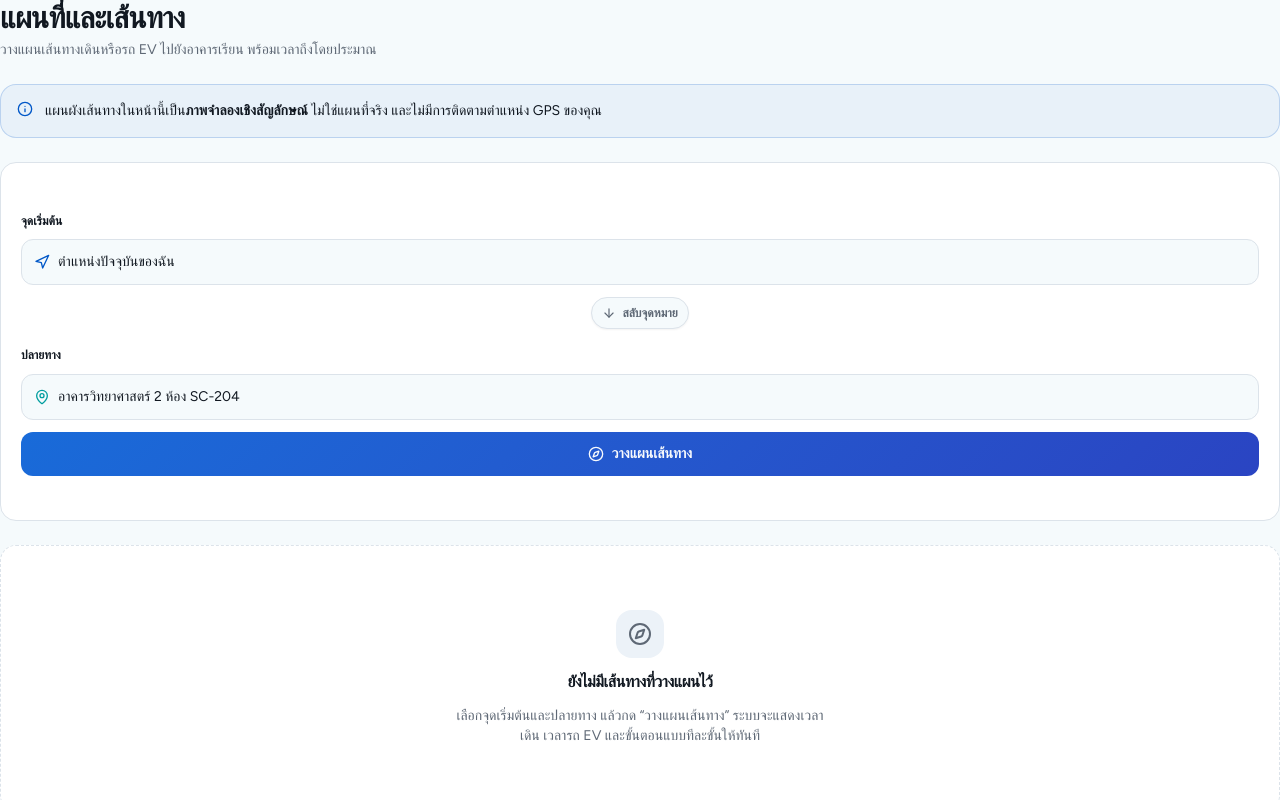
Smart Navigation › shows walking, EV, final walking and total minutes for โรงอาหารกลาง → SC-204
Replace the text in the field with test id "navigate.origin_input" with "โรงอาหารกลาง" at (652, 262), box [58,240,1246,284]
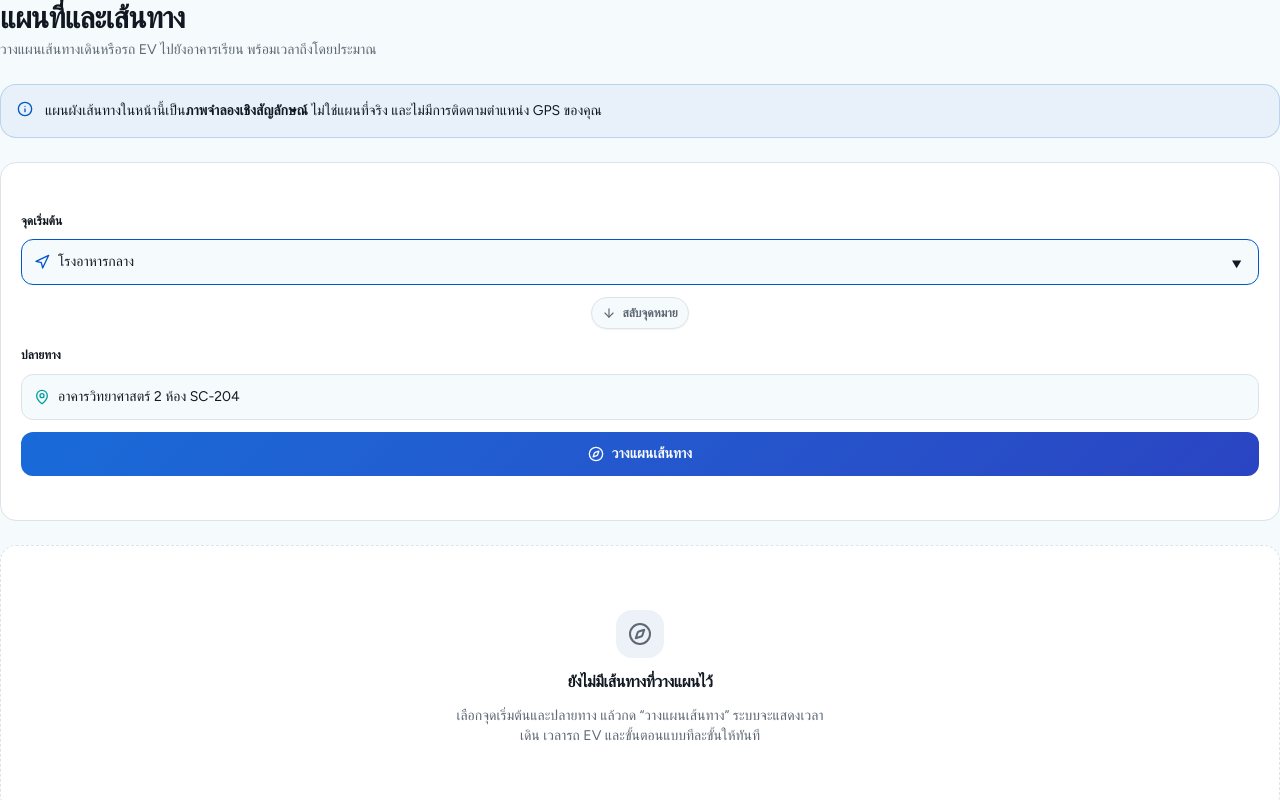
Replace the text in the field with test id "navigate.destination_input" with "SC-204" at (652, 396), box [58,374,1246,418]
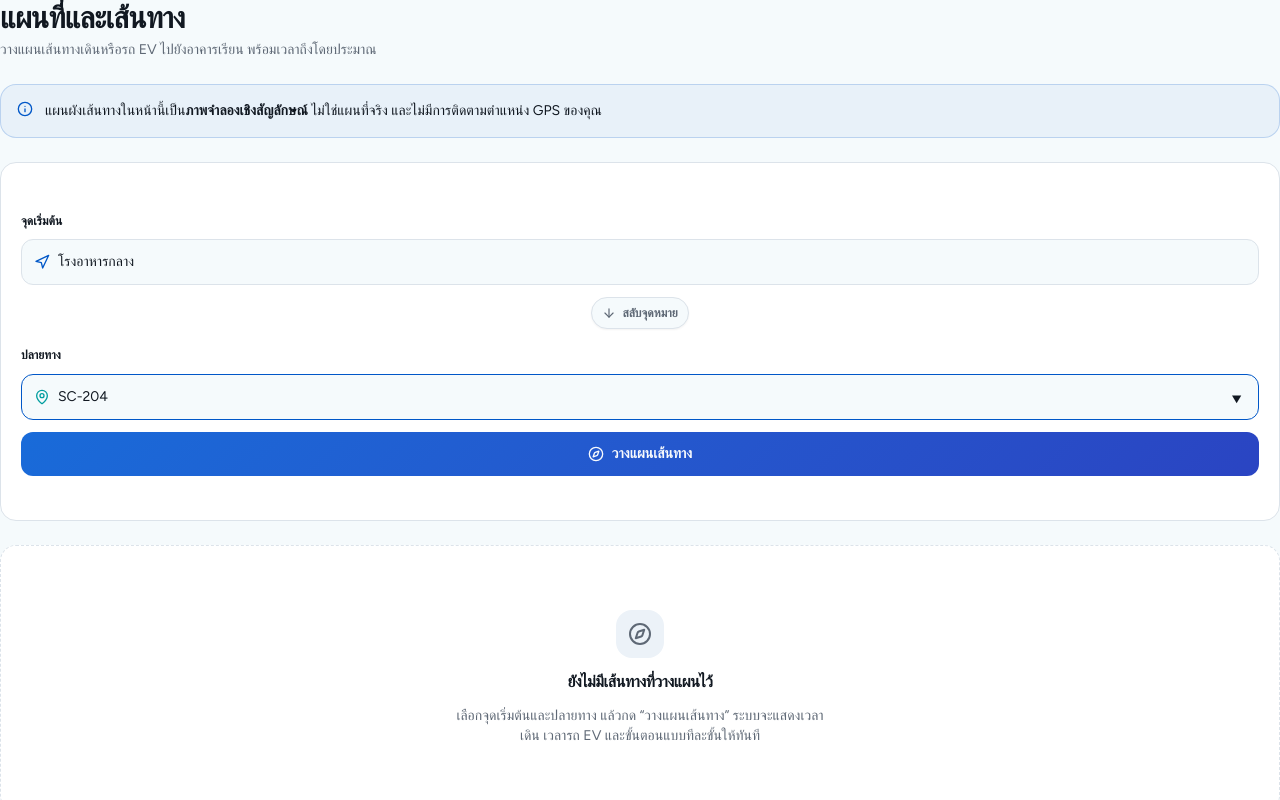
Click the button with test id "navigate.plan_button" at (640, 454), box [21,432,1259,476]
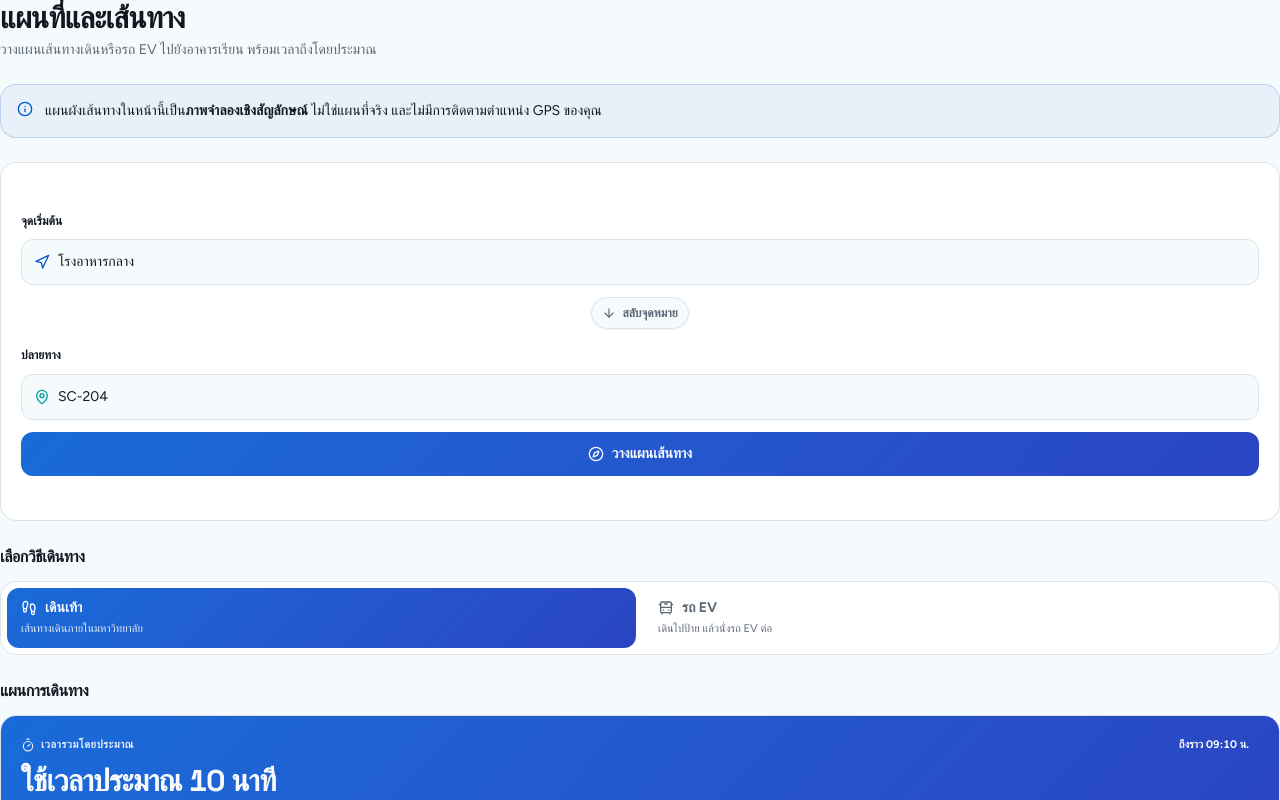
Result: the text with test id "navigate.total_minutes" shows "10 นาที" at [21,761,276,799]
